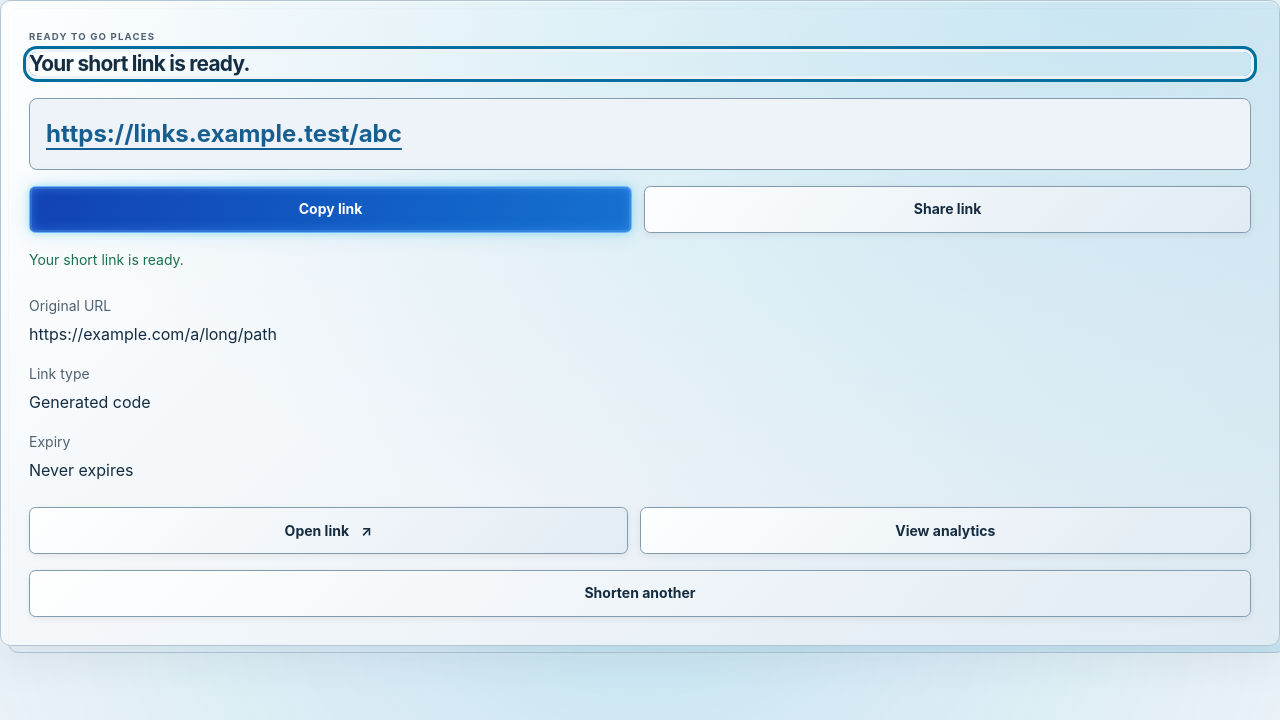
Test: CreationResult_shareFailure_keepsResultAvailable (NotAllowedError)
This screenshot has width=1280, height=720.
Step 1. Click the button "Share link" → (948, 210), box top-left (644, 186), bottom-right (1251, 233)
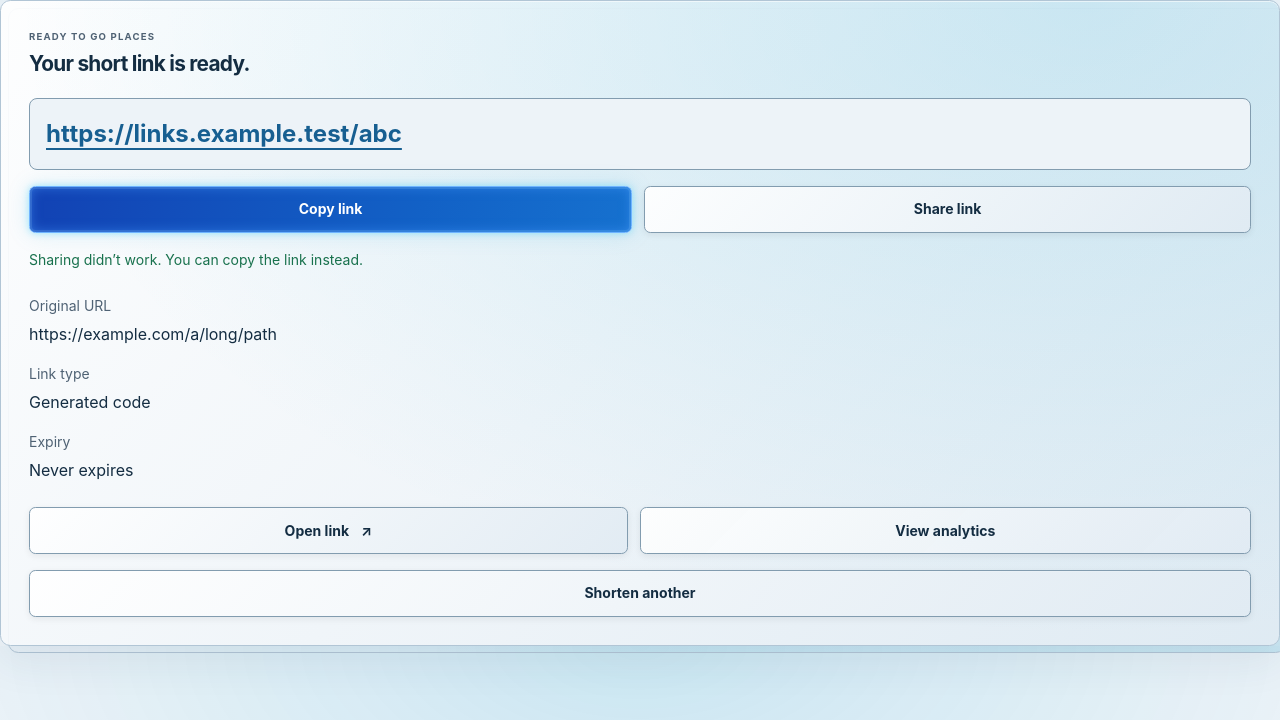
Expected: the link "https://links.example.test/abc" is shown, top-left (29, 98), bottom-right (1251, 170)
Expected: the message shows "copy the link instead", top-left (29, 251), bottom-right (363, 268)
